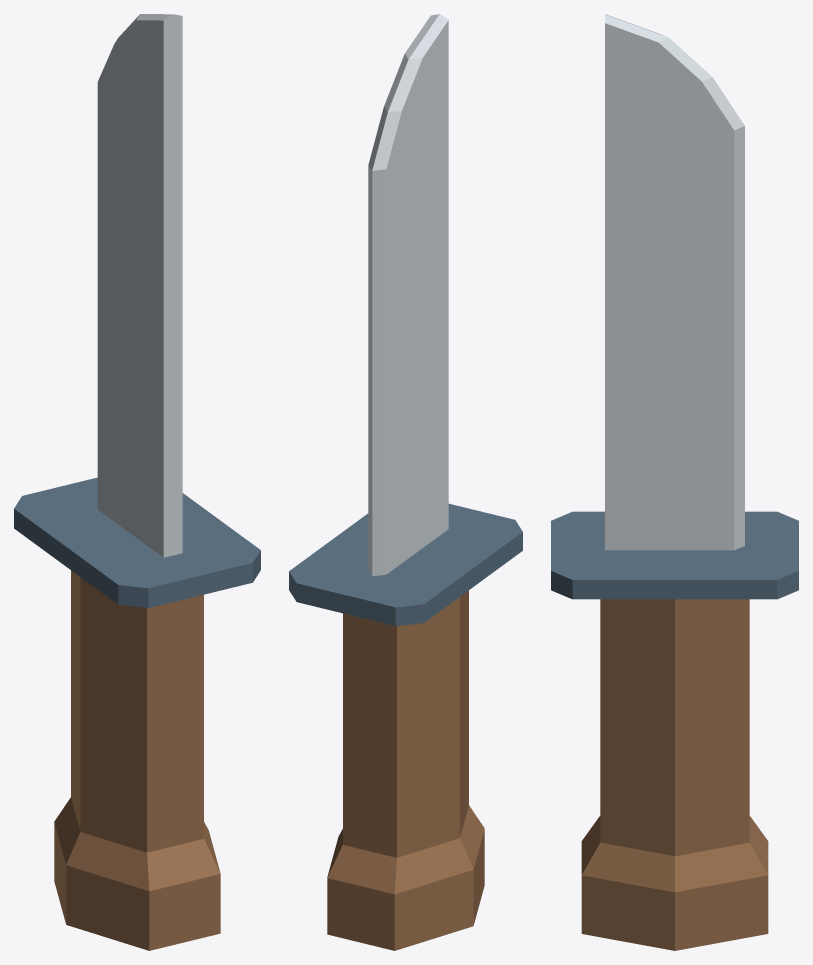
File: knife_smooth.obj
3 renders of one model, left to right at view 1: azimuth 30°, elevation 25°; view 2: azimuth 150°, elevation 25°; view 3: azimuth 270°, elevation 25°, orthographic. The views are drawn at different scales.
Visible parts, largest first — view 1: knife_smooth; view 2: knife_smooth; view 3: knife_smooth.
Boxes of the visible parts, x1,y1,x2,y2 form: knife_smooth: (14,14,260,950); knife_smooth: (289,14,522,950); knife_smooth: (551,14,798,950).
Bounding box in the file's own units: 0.0574 × 0.3537 × 0.088.
